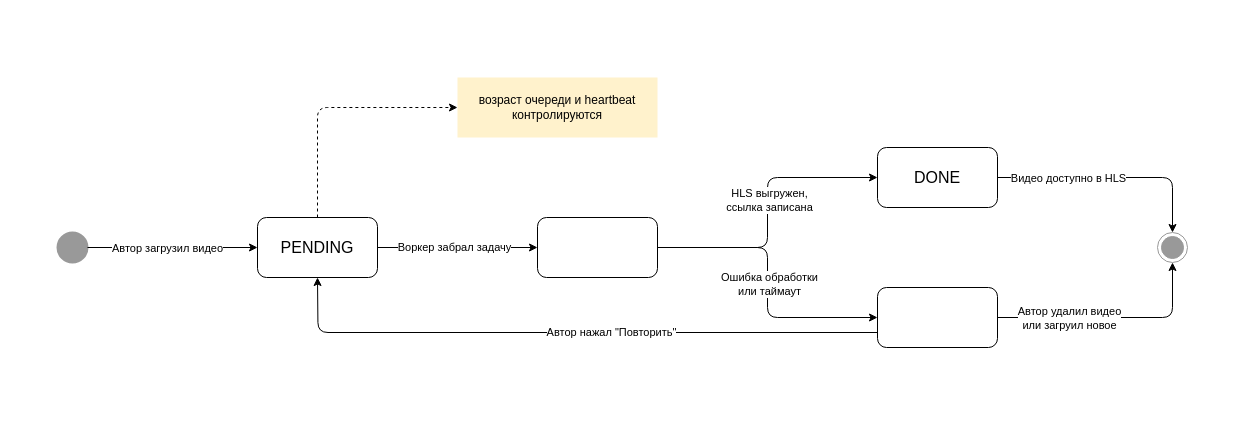
Some shapes in this 1234 by 434 pixel diagram are drawn without their labels. The centre of each missing label's shape, as x and y in pixels:
FAILED: the point at 937,317
RUNNING: the point at 597,247
